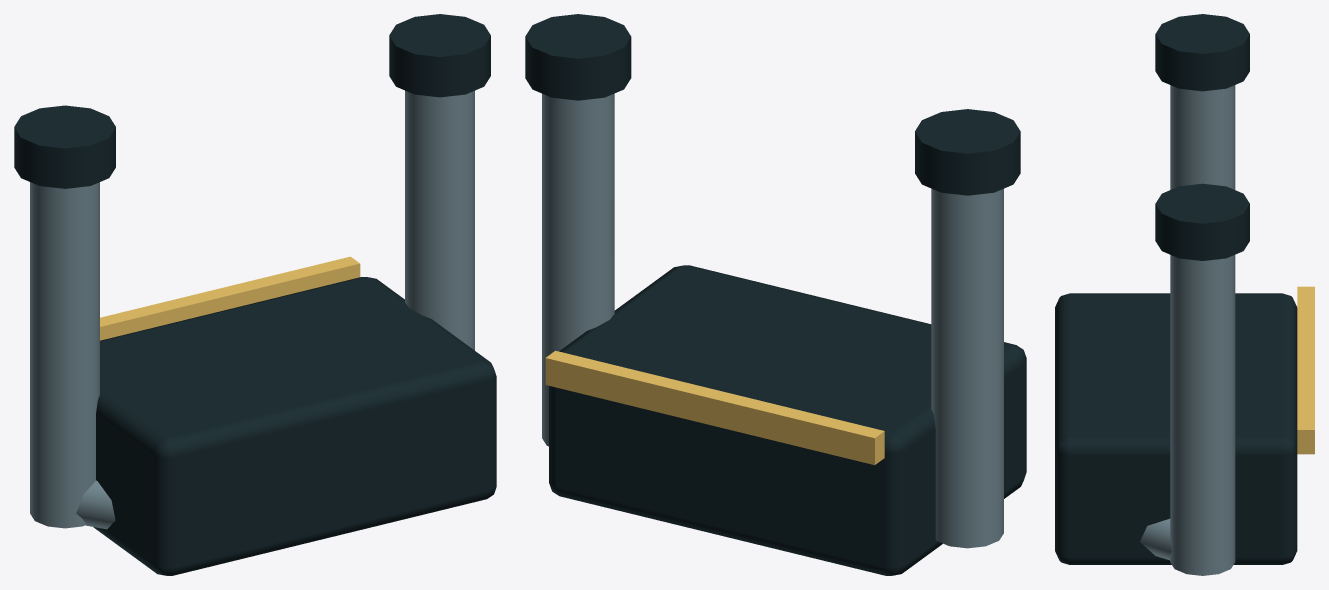
File: upgrade-truck_engine.glb
3 renders of one model, left to right at view 1: azimuth 30°, elevation 25°; view 2: azimuth 150°, elevation 25°; view 3: azimuth 270°, elevation 25°, orthographic. The views are drawn at different scales.
Visible parts, largest first — view 1: upgrade-truck_engine; view 2: upgrade-truck_engine; view 3: upgrade-truck_engine.
Part boxes in pixels (x1,y1,x2,y2): upgrade-truck_engine: (14,14,496,575); upgrade-truck_engine: (525,14,1026,575); upgrade-truck_engine: (1055,14,1314,575).
Size of the model in its own units: 1.68 by 1.4 by 0.88.
